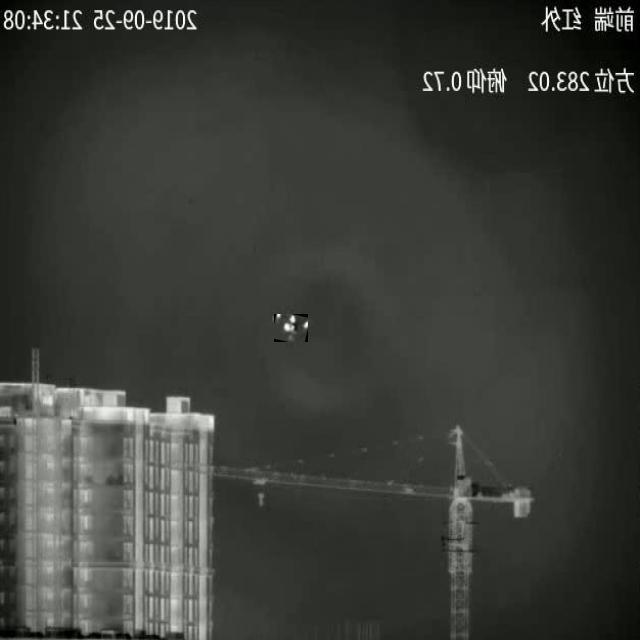drone: (276, 314, 308, 342)
